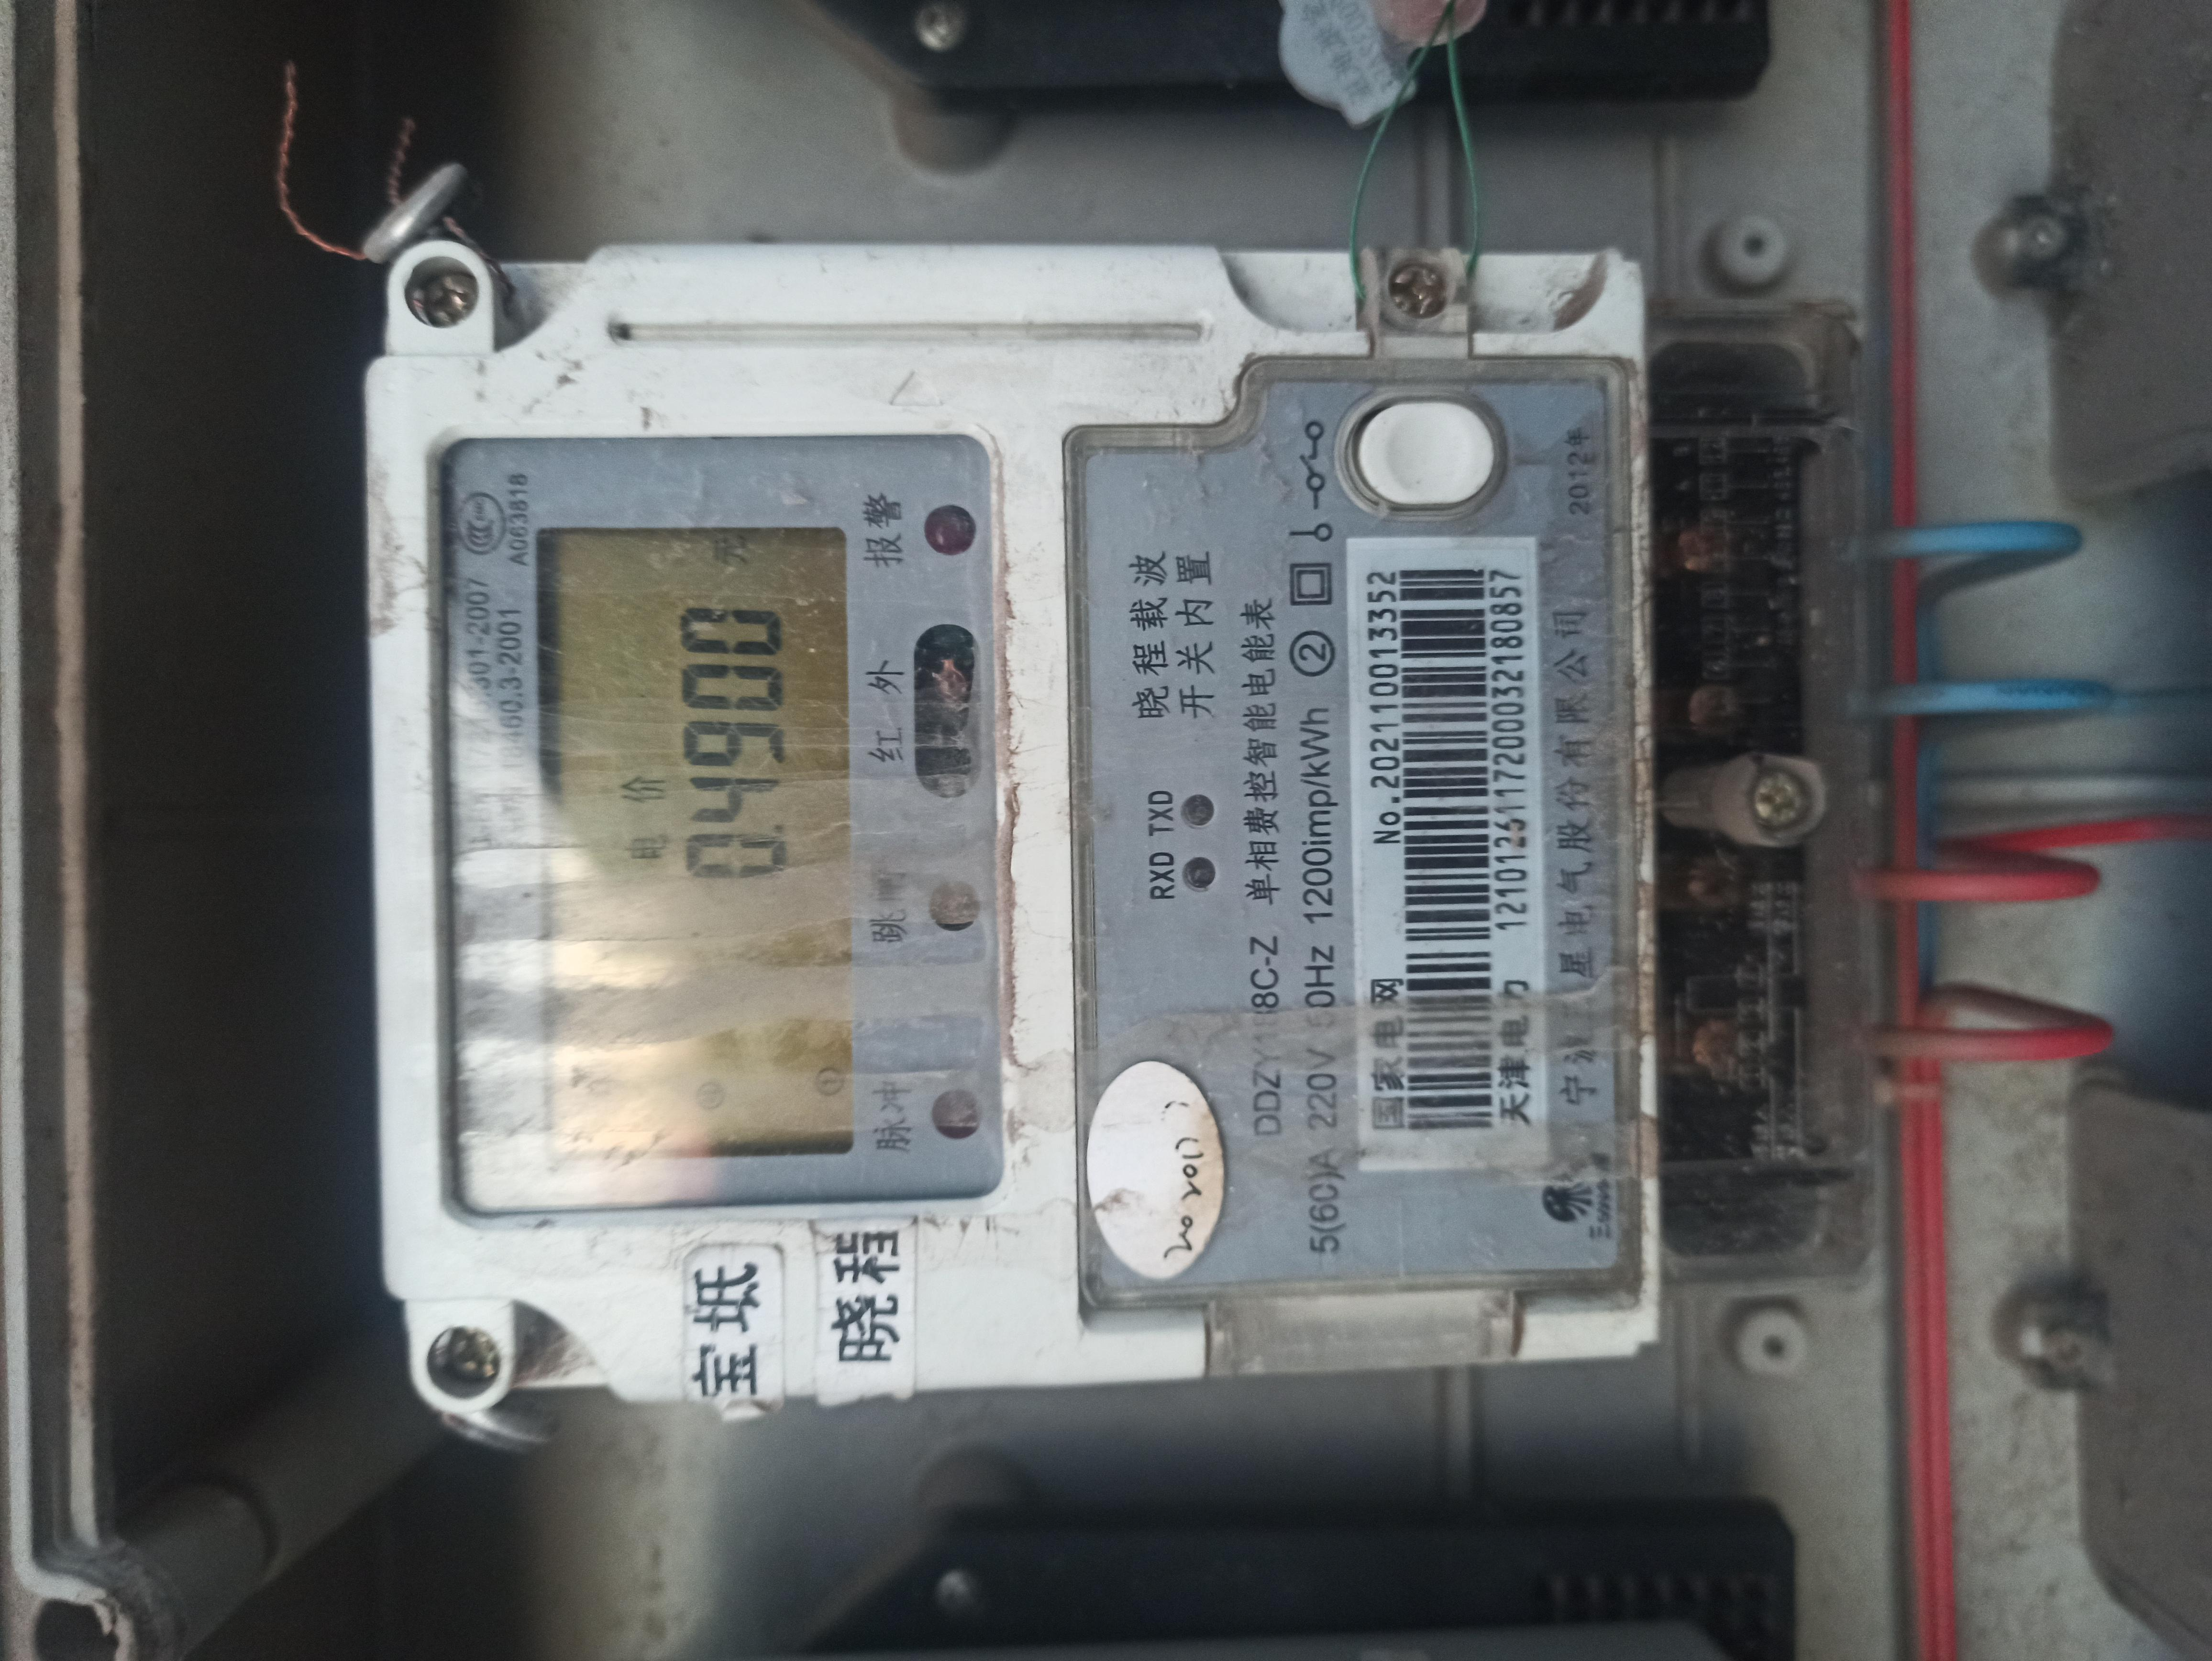digital: (370, 244, 1656, 1391)
